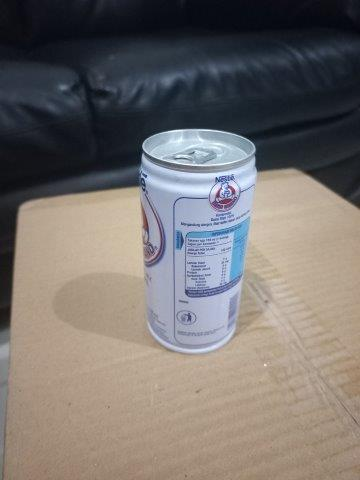kaleng: (137, 128, 257, 352)
kardus: (14, 166, 360, 480)
